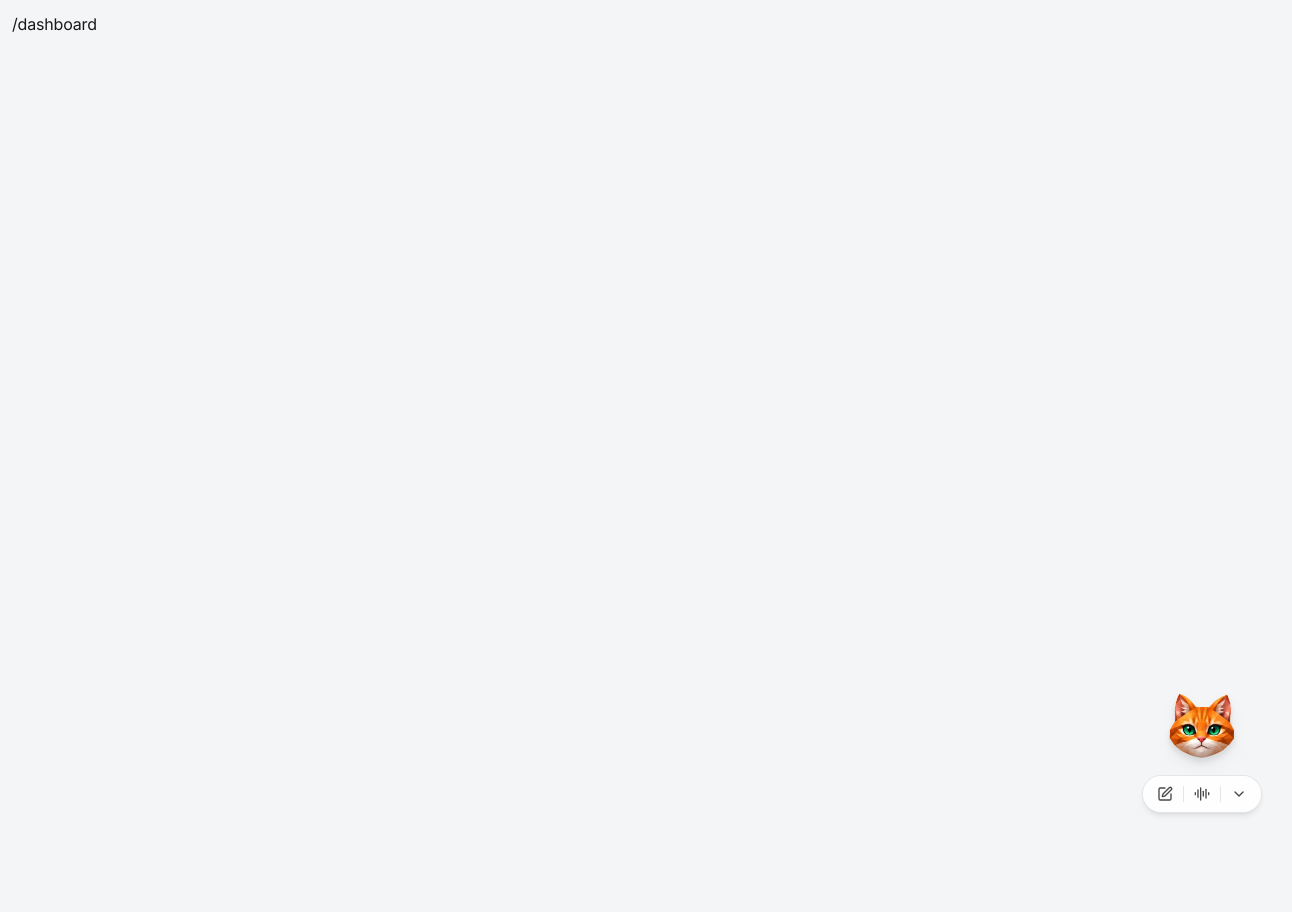
Test case: Pet MIMI › chuột phải → menu; Ẩn MIMI → ẩn hẳn (không tab mép phải); Alt+Shift+M → hiện lại
This screenshot has width=1292, height=912.
Right-click the button named "MIMI —".
right_click(1202, 726)  # box x1=1164 y1=688 x2=1240 y2=764
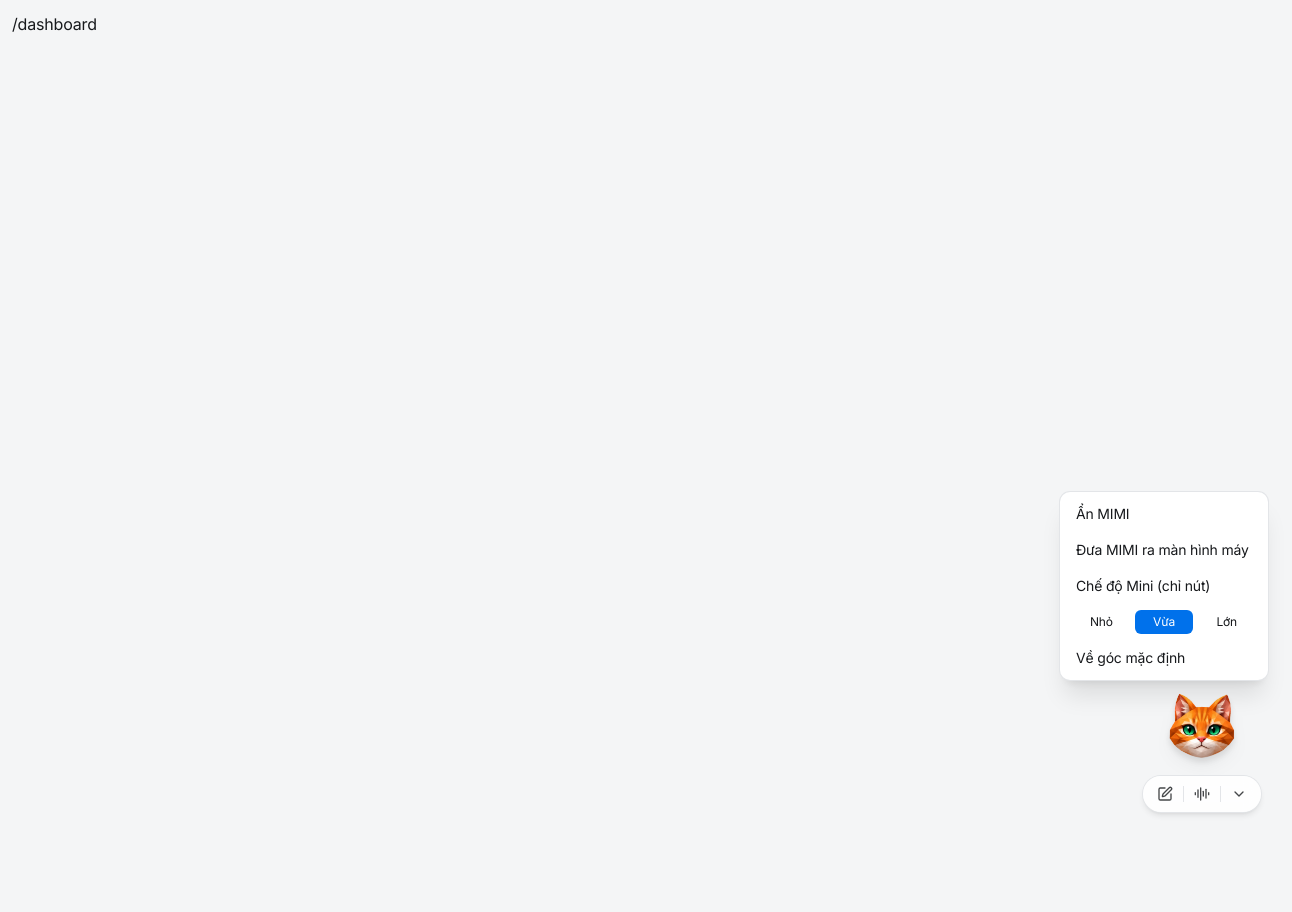
Click the menu item "Ẩn MIMI".
click(1164, 514)  # box x1=1064 y1=496 x2=1264 y2=532
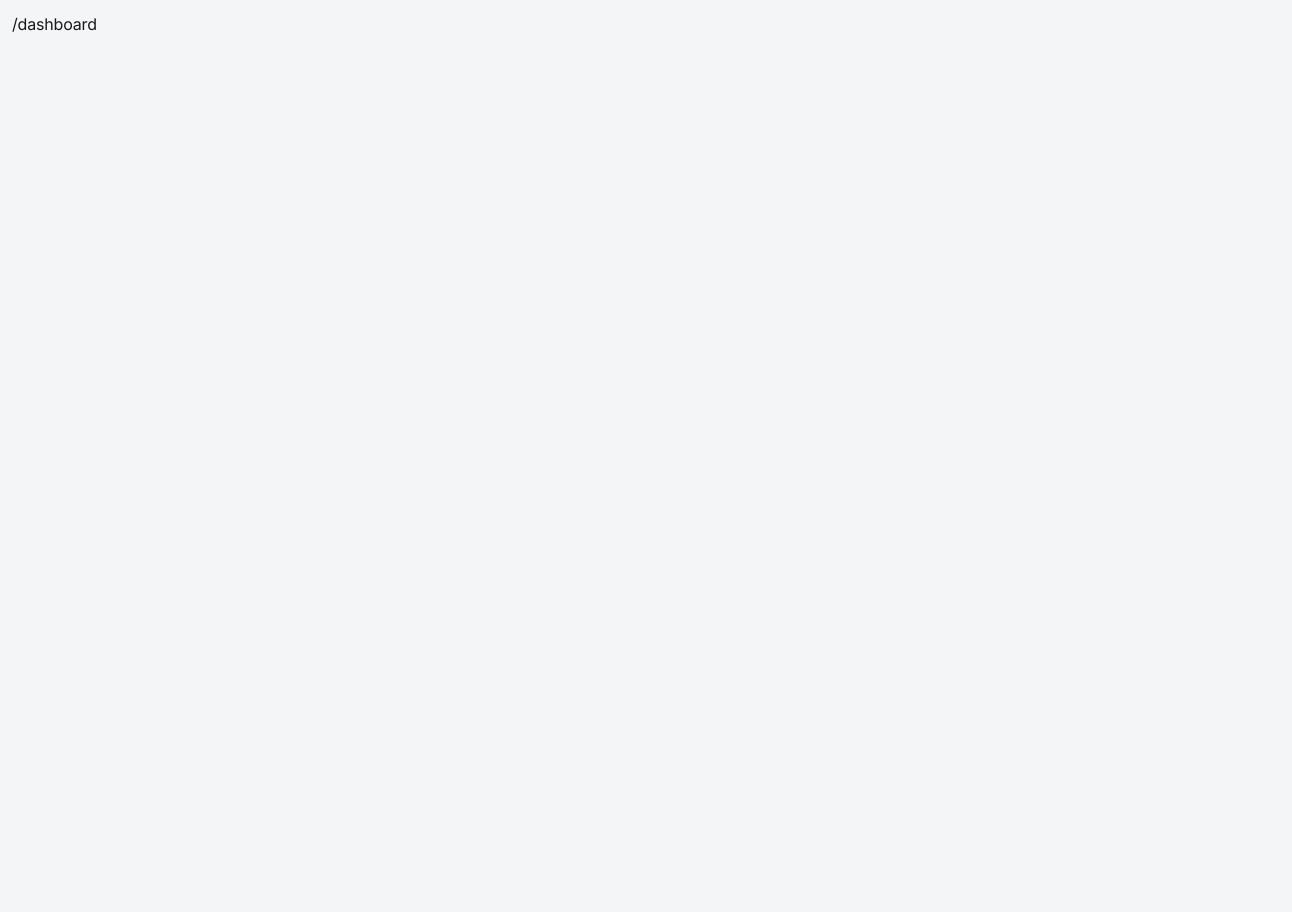
Press KeyM
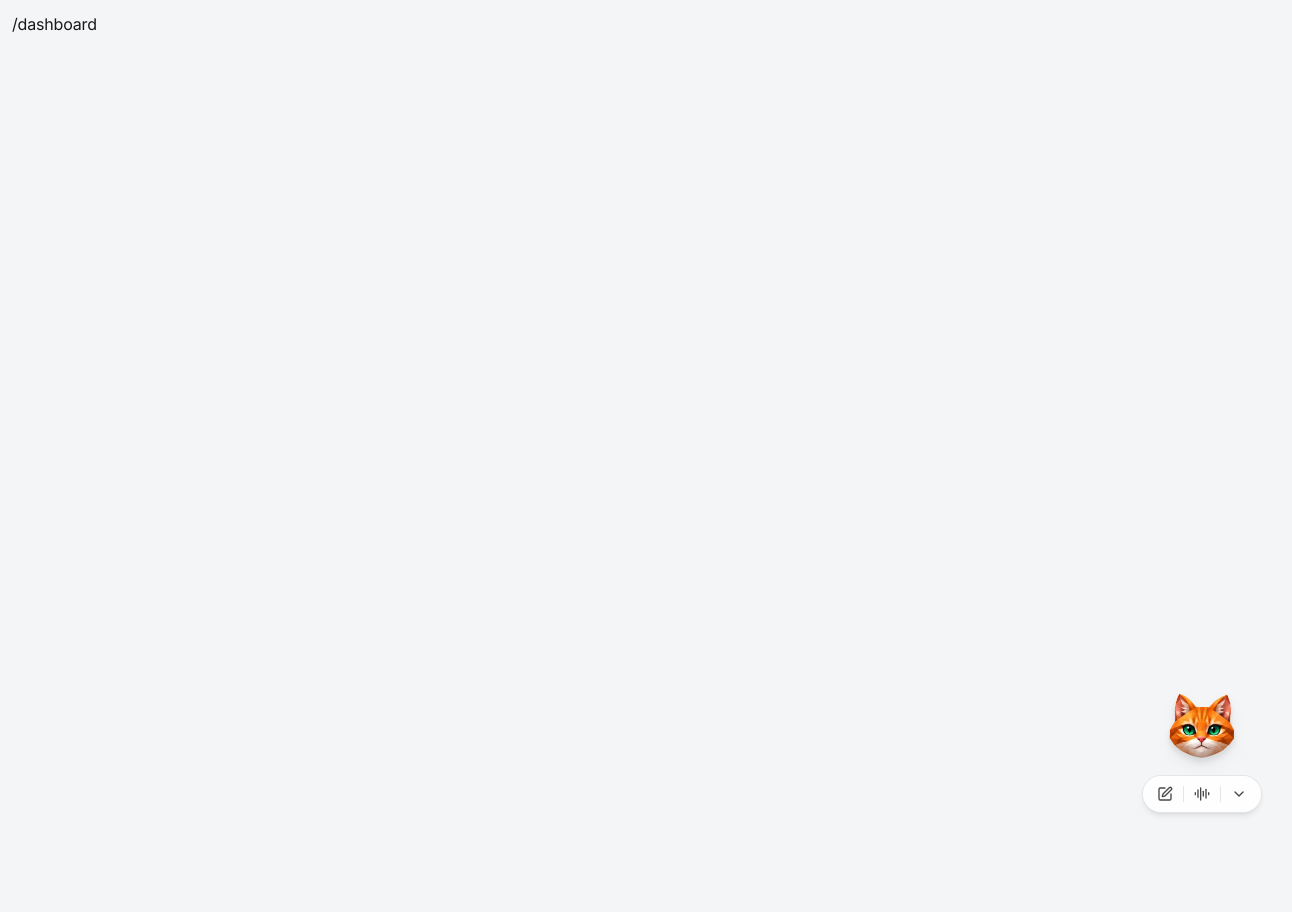
Now the button named "MIMI —" is shown, box x1=1164 y1=688 x2=1240 y2=764
